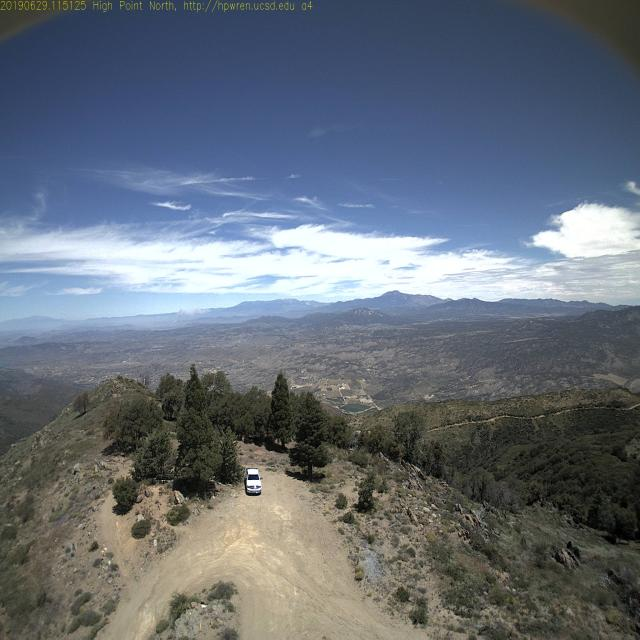smoke: (165, 297, 213, 330)
